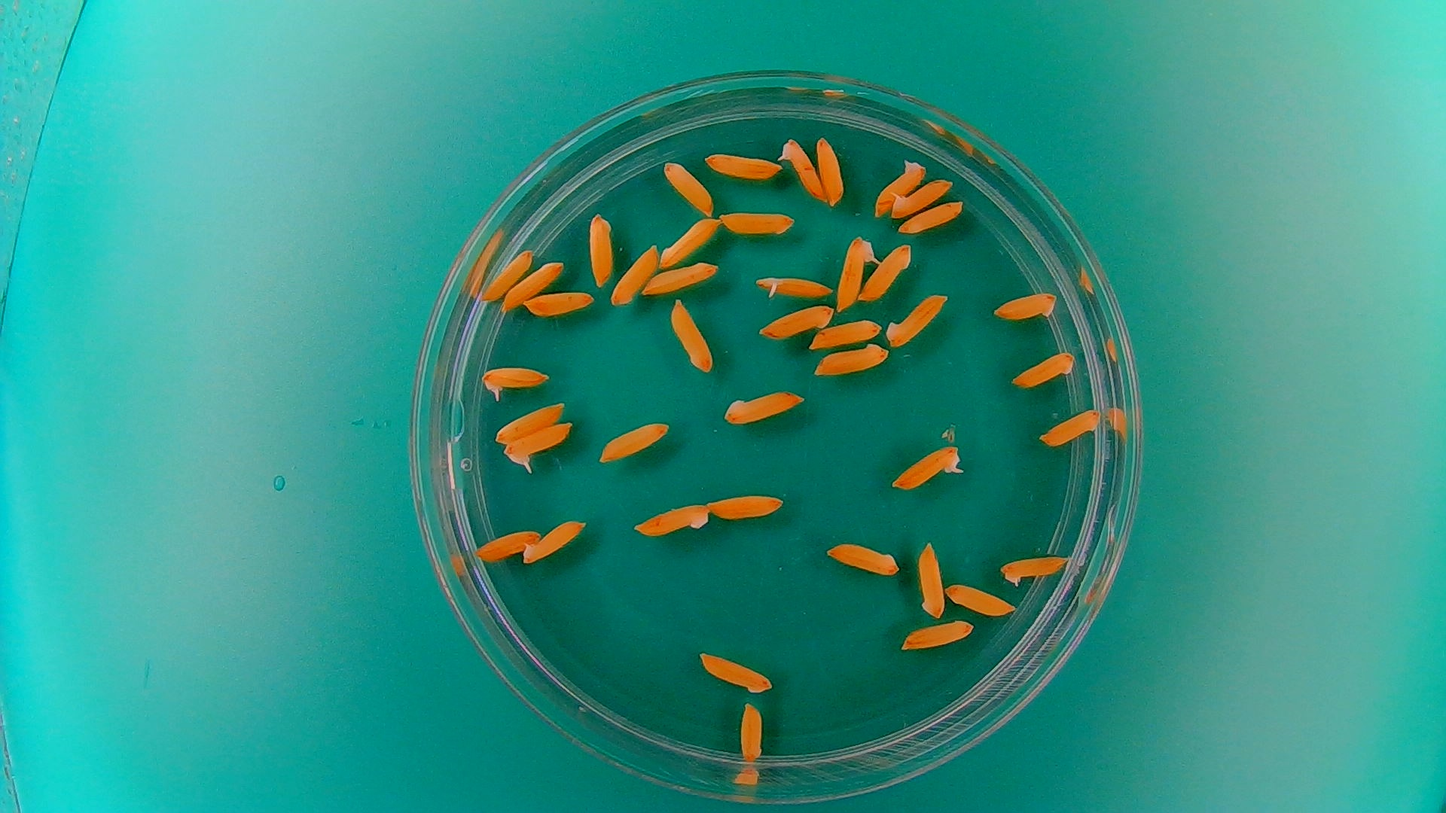no: (695, 648, 775, 696), (884, 291, 950, 349), (667, 296, 715, 374), (499, 256, 566, 311), (721, 386, 808, 427), (610, 239, 660, 309), (477, 245, 535, 305), (493, 398, 566, 445), (657, 216, 721, 269), (596, 419, 671, 464), (871, 157, 927, 217), (521, 516, 588, 566), (859, 241, 913, 303), (752, 304, 839, 341), (659, 158, 714, 216), (822, 537, 901, 577), (631, 501, 711, 540), (941, 580, 1017, 618), (898, 617, 977, 653), (641, 260, 719, 296), (811, 343, 891, 378), (1009, 349, 1075, 390), (1000, 549, 1073, 586), (915, 537, 947, 621), (701, 149, 783, 181), (1038, 407, 1103, 447), (898, 198, 966, 236), (472, 525, 539, 563), (707, 489, 786, 521), (814, 132, 847, 208), (807, 317, 882, 350), (584, 209, 615, 288), (992, 288, 1059, 324), (524, 287, 597, 319), (719, 207, 797, 236), (738, 699, 765, 763)
yes: (889, 440, 966, 491), (502, 419, 575, 471), (834, 234, 880, 313), (778, 134, 824, 202), (478, 361, 554, 400), (890, 177, 955, 221), (753, 272, 837, 302)
